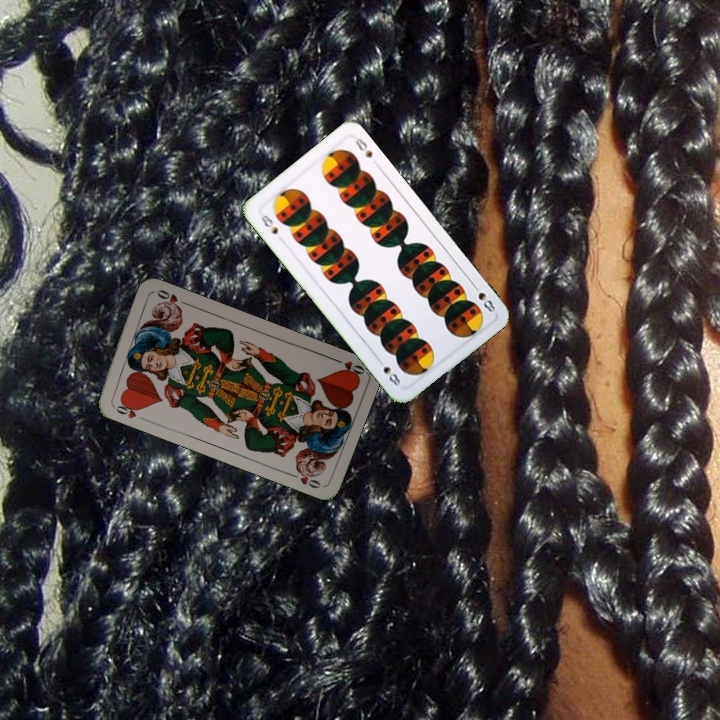HO: (328, 354, 368, 380), (108, 397, 147, 423)
S8: (468, 280, 500, 315), (255, 210, 281, 237)
